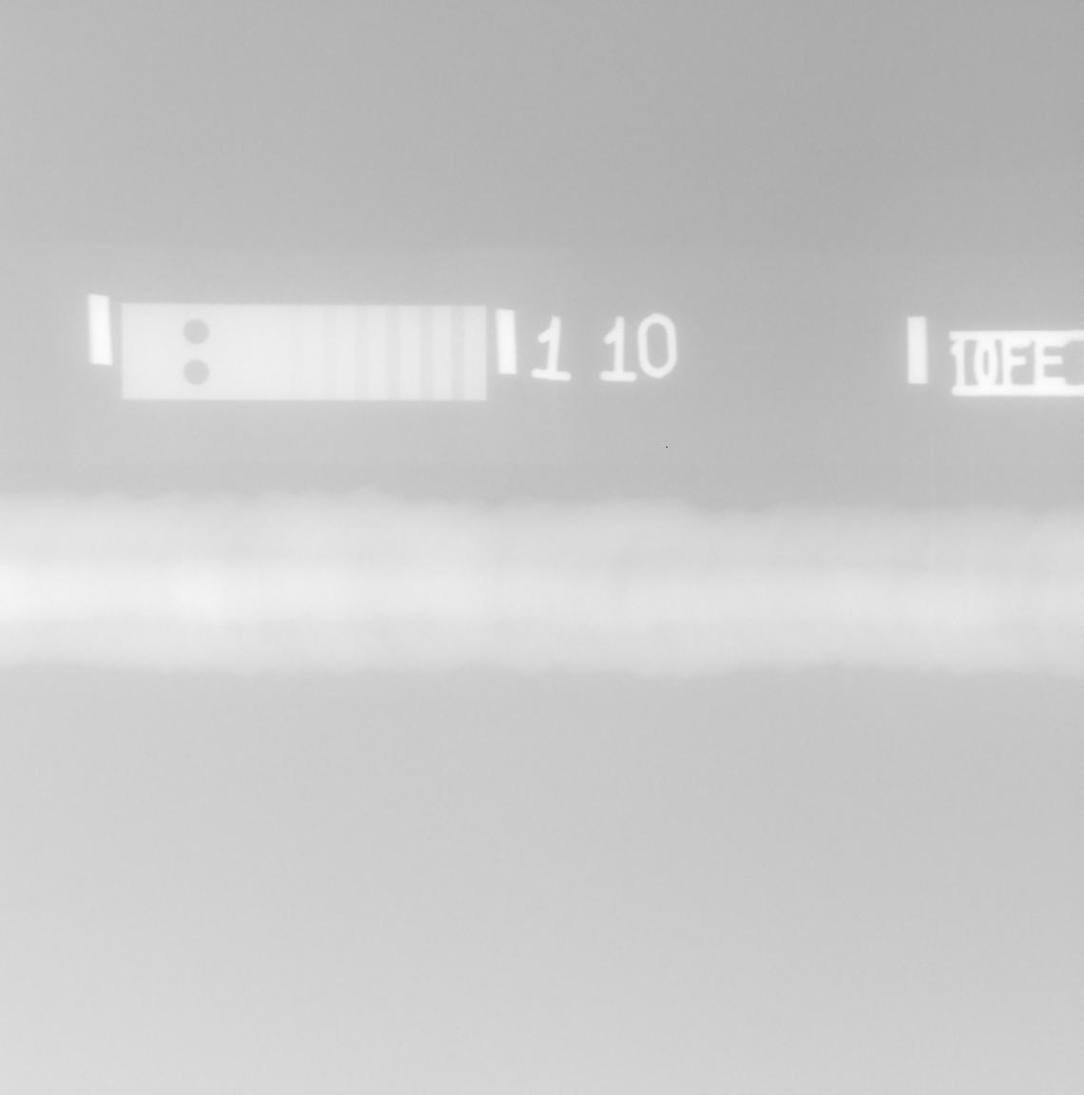Pore/Porosity: (1017, 604, 1024, 612), (1041, 607, 1046, 610), (1029, 608, 1033, 611)
Reference Standard 2: (120, 304, 487, 401)
